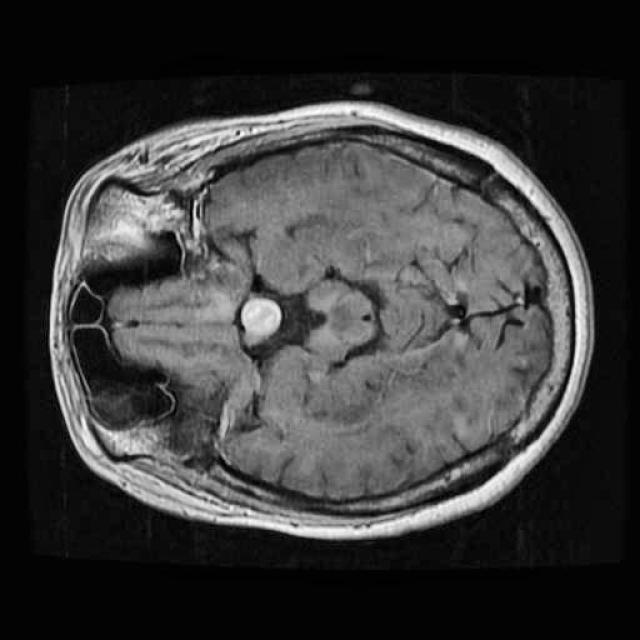Tumor: (226, 285, 302, 351)
